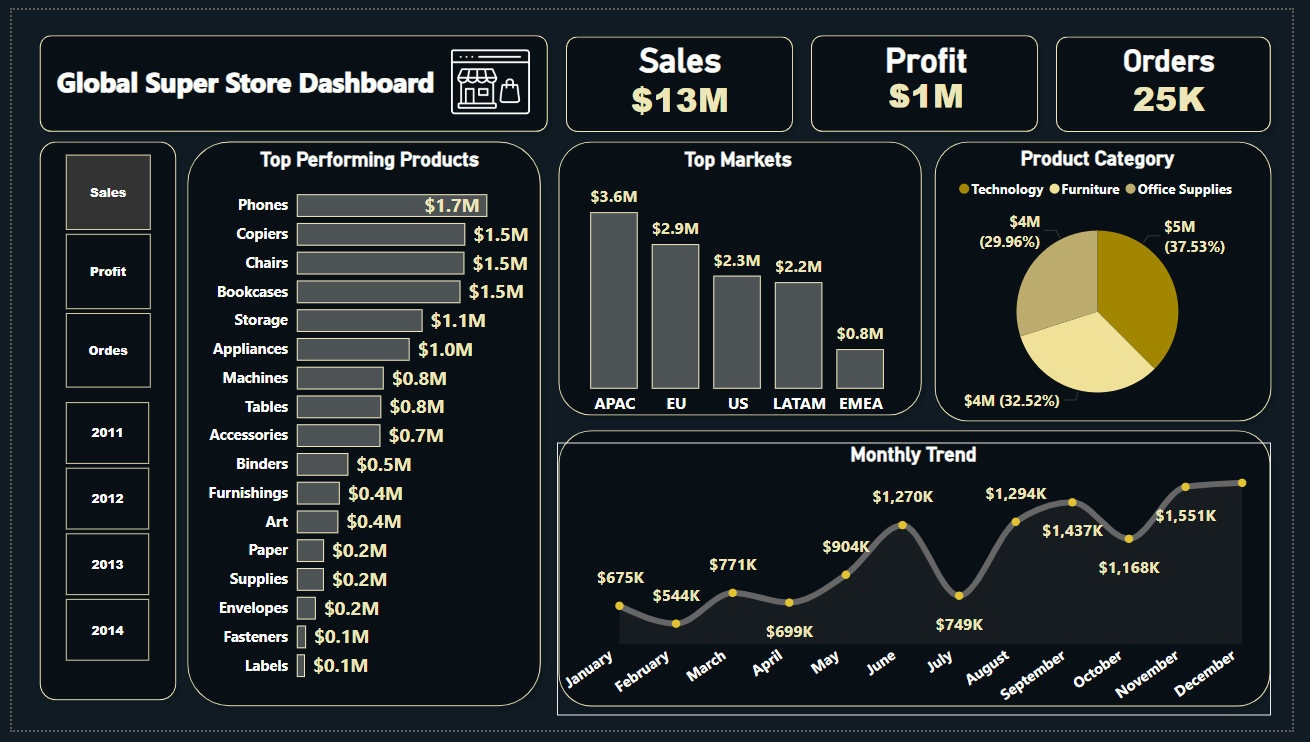

This screenshot's page, from the dashboard's own definition file:
{"tool":"powerbi","page":{"name":"Sales Overview","canvas":[1280,720],"ordinal":0},"visuals":[{"type":"shape","box":[166.5,123.1,371.6,582.7],"z":0},{"type":"shape","box":[19.3,15.7,526,114.6],"z":1000},{"type":"textbox","box":[39.8,48.3,395.7,54.3],"z":2000},{"type":"image","box":[421,25.3,114.6,94.1],"z":3000},{"type":"shape","box":[545.3,16.9,244.9,113.4],"z":4000},{"type":"card","title":"Sales","fields":{"Values":["All Measures.Total Sales"]},"box":[567,31.4,201.5,79.6],"z":5000},{"type":"shape","box":[790.2,15.7,244.9,114.6],"z":6000},{"type":"shape","box":[1035.1,16.9,232.8,113.4],"z":7000},{"type":"card","title":"Profit","fields":{"Values":["All Measures.Total Profit"]},"box":[813.1,31.4,201.5,71.2],"z":8000},{"type":"card","title":"Orders","fields":{"Values":["All Measures.Total Ordes"]},"box":[1056.8,32.6,201.5,78.4],"z":9000},{"type":"shape","box":[19.3,123.1,154.4,576.7],"z":10000},{"type":"slicer","fields":{"Values":["Key Metrics 2.Key Metrics"]},"box":[27.7,137.5,135.1,247.3],"z":11000},{"type":"slicer","fields":{"Values":["Global_Superstorecsv.Order Date.Variation.Date Hierarchy.Year"]},"box":[27.7,384.9,133.9,272.7],"z":12000},{"type":"shape","box":[538.1,123.1,381.2,292],"z":13000},{"type":"shape","box":[913.3,123.1,354.7,298],"z":14000},{"type":"shape","box":[538.1,411.4,729.9,294.4],"z":15000},{"type":"barChart","title":"Top Performing Products","fields":{"Y":["All Measures.Total Sales"],"Category":["Global_Superstorecsv.Sub-Category"]},"box":[190.6,137.5,335.4,546.5],"z":16000},{"type":"lineChart","title":"Monthly Trend","fields":{"Y":["All Measures.Total Sales"],"Category":["Global_Superstorecsv.Order Date.Variation.Date Hierarchy.Month"]},"box":[545.3,431.9,713,273.9],"z":17000},{"type":"pieChart","title":"Product Category","fields":{"Y":["All Measures.Total Sales"],"Category":["Global_Superstorecsv.Category"]},"box":[912.1,136.3,346.2,278.7],"z":18000},{"type":"columnChart","title":"Top Markets","fields":{"Y":["All Measures.Total Sales"],"Category":["Global_Superstorecsv.Market"]},"box":[548.9,137.5,354.7,277.5],"z":19000}]}

Visuals, with their boxes in screenshot pixels (x1, y1, x2, y2), scaled from the page's 1280x720 canvas onto the 1310x742 screenshot:
shape: select_region(170, 127, 551, 727)
shape: select_region(20, 16, 558, 134)
textbox: select_region(41, 50, 446, 106)
image: select_region(431, 26, 548, 123)
shape: select_region(558, 17, 809, 134)
"Sales" card: select_region(580, 32, 787, 114)
shape: select_region(809, 16, 1059, 134)
shape: select_region(1059, 17, 1298, 134)
"Profit" card: select_region(832, 32, 1038, 106)
"Orders" card: select_region(1082, 34, 1288, 114)
shape: select_region(20, 127, 178, 721)
slicer - Key Metrics 2.Key Metrics: select_region(28, 142, 167, 397)
slicer - Global_Superstorecsv.Order Date.Variation.Date Hierarchy.Year: select_region(28, 397, 165, 678)
shape: select_region(551, 127, 941, 428)
shape: select_region(935, 127, 1298, 434)
shape: select_region(551, 424, 1298, 727)
"Top Performing Products" barChart: select_region(195, 142, 538, 705)
"Monthly Trend" lineChart: select_region(558, 445, 1288, 727)
"Product Category" pieChart: select_region(933, 140, 1288, 428)
"Top Markets" columnChart: select_region(562, 142, 925, 428)
